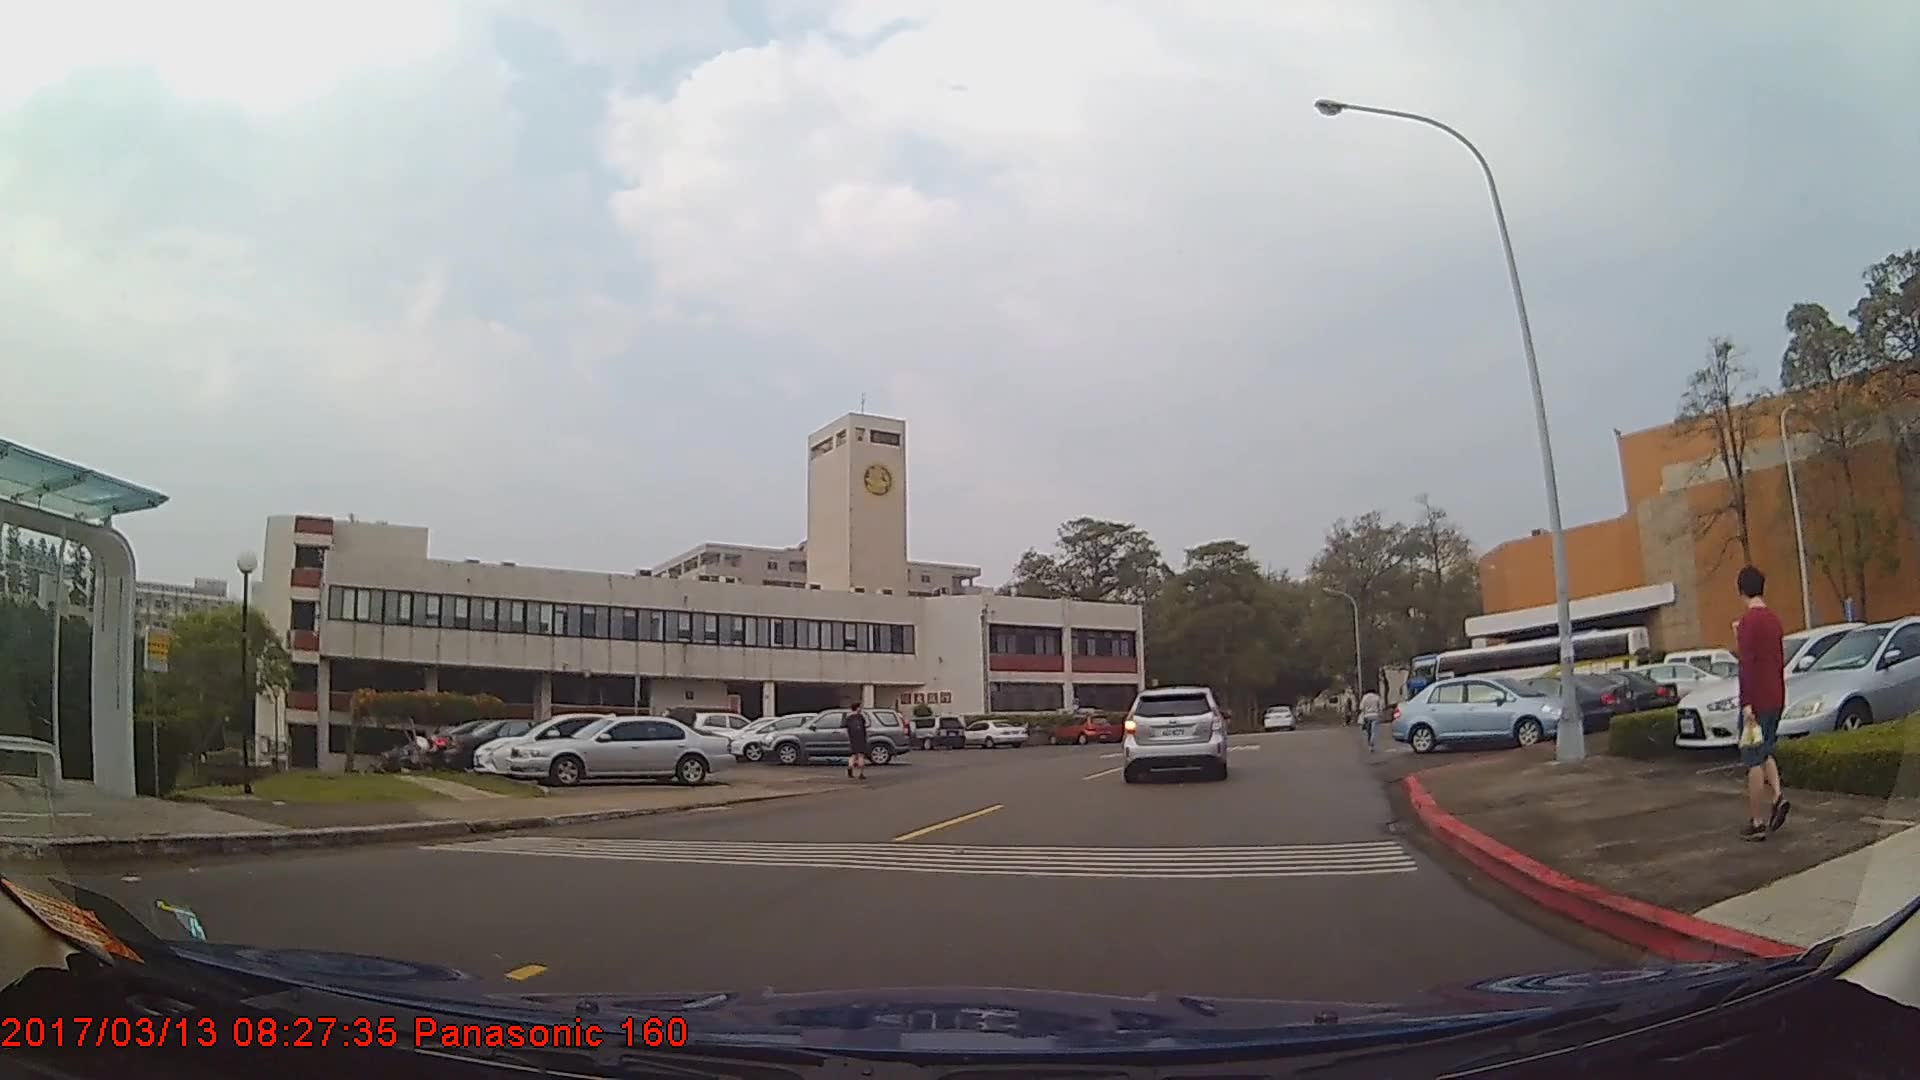pedestrian: (1731, 567, 1796, 837), (842, 701, 871, 779), (1359, 685, 1386, 753)
vehicle: (1675, 621, 1915, 747), (1746, 616, 1920, 752), (502, 714, 738, 785), (472, 707, 688, 774), (1387, 674, 1572, 750), (1453, 672, 1638, 732), (1124, 685, 1226, 784), (441, 713, 600, 771), (760, 706, 914, 763), (902, 714, 967, 749), (1047, 709, 1111, 742), (960, 717, 1028, 748), (1262, 702, 1293, 729)
